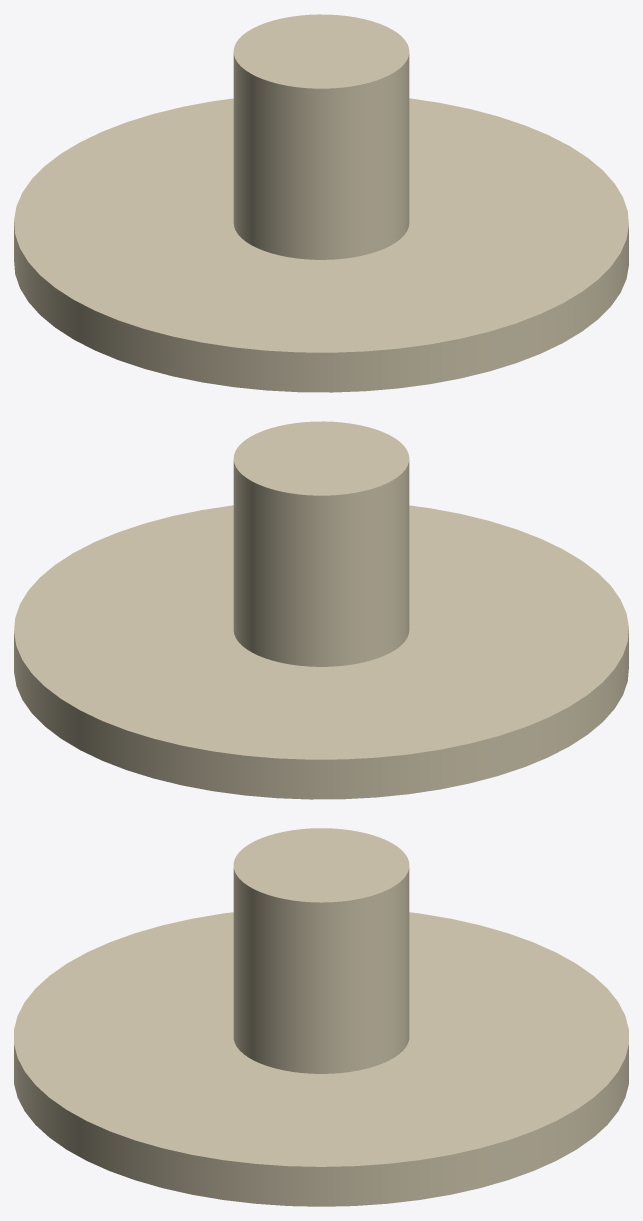
Rendered from evp-spring-stop.glb.
3 views of the same model, one above another, from view 1: azimuth 30°, elevation 25°; view 2: azimuth 150°, elevation 25°; view 3: azimuth 270°, elevation 25° (orthographic).
Parts seen in each view (by area): view 1: world; view 2: world; view 3: world.
Boxes of the visible parts, x1,y1,x2,y2 form: world: (14, 14, 628, 392); world: (14, 421, 628, 799); world: (14, 828, 628, 1206).
Bounding box in the file's own units: 0.014 × 0.0053 × 0.014.
